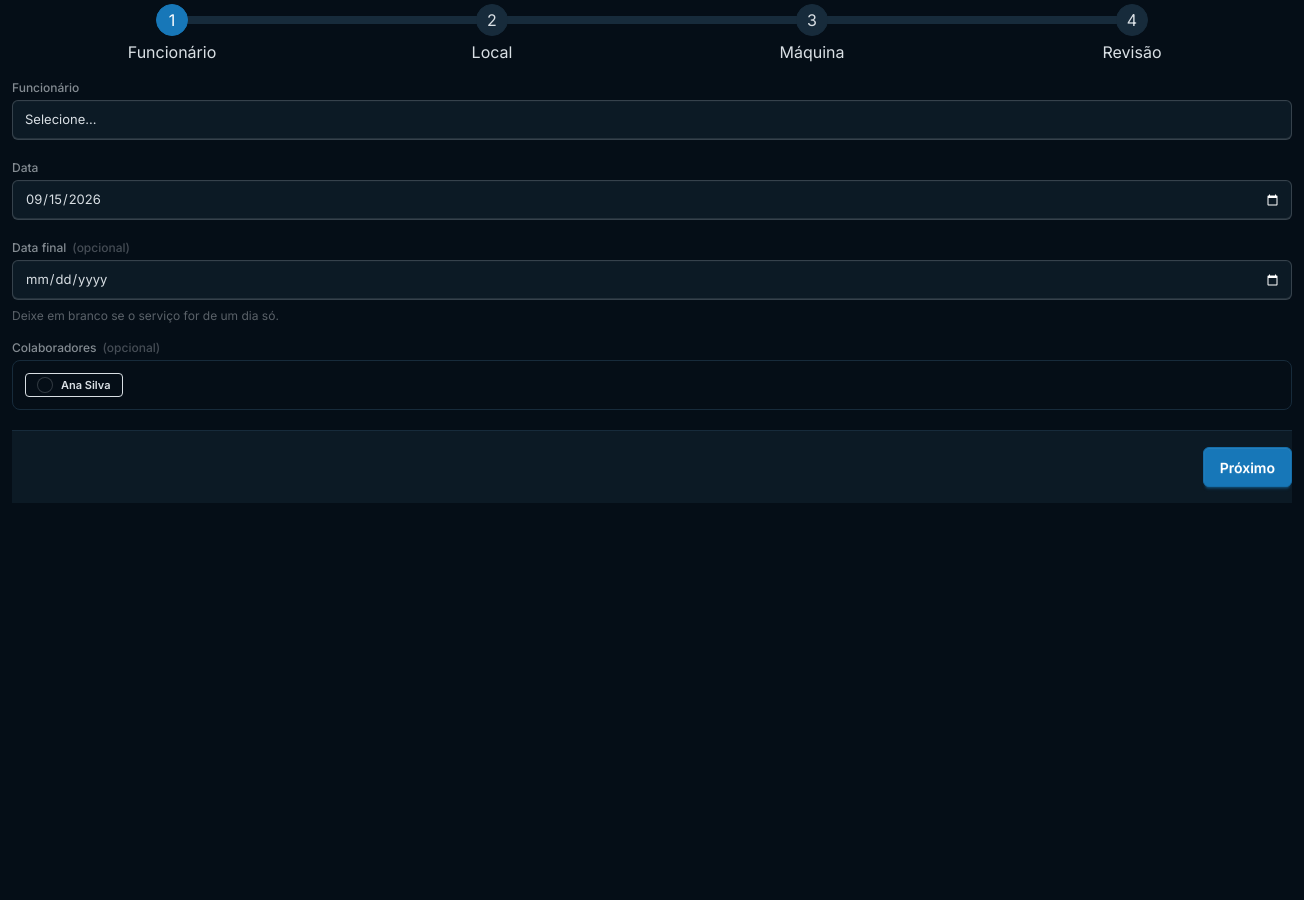
Test: JobStepper › avança para etapa 2 com dados válidos na etapa 1
Select "Ana Silva" in the dropdown labelled "Funcionário" at (652, 120), box [12,100,1292,140]
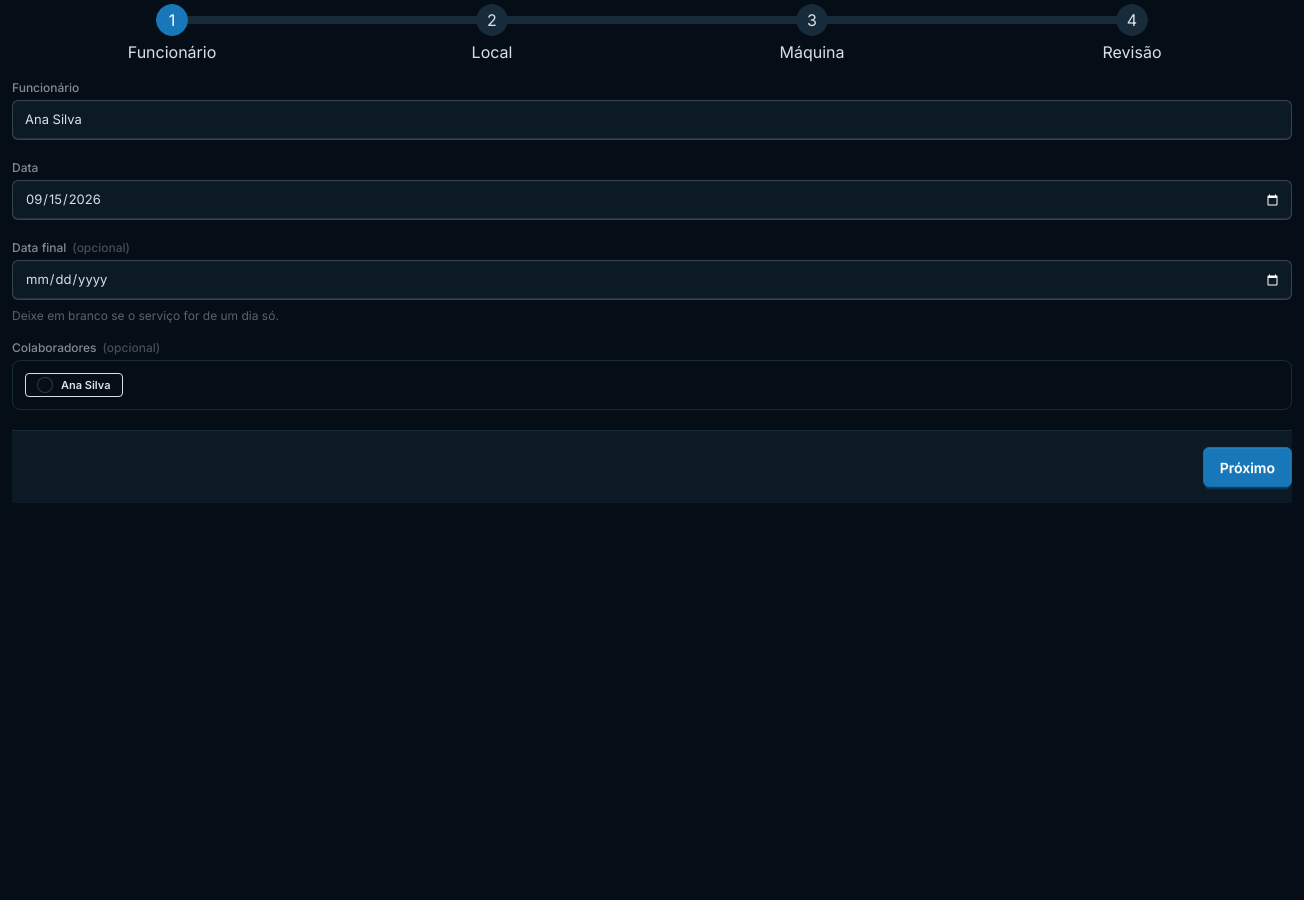
Type "2025-06-01" into the date field labelled "Data".
click(652, 200); type("2025-06-01")  # box [12,180,1292,220]
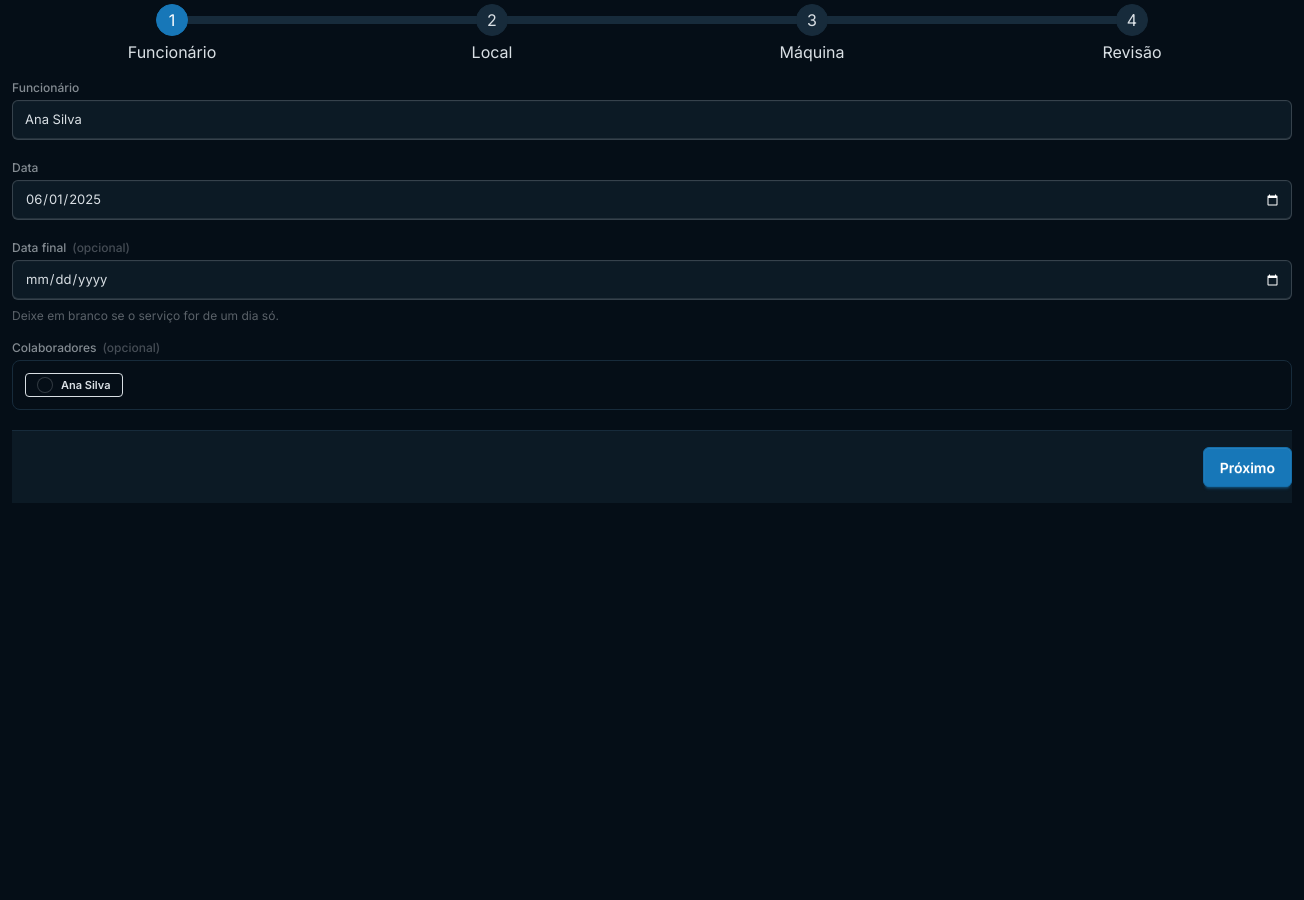
Click the button "Próximo".
click(1247, 467)  # box [1203,447,1292,487]
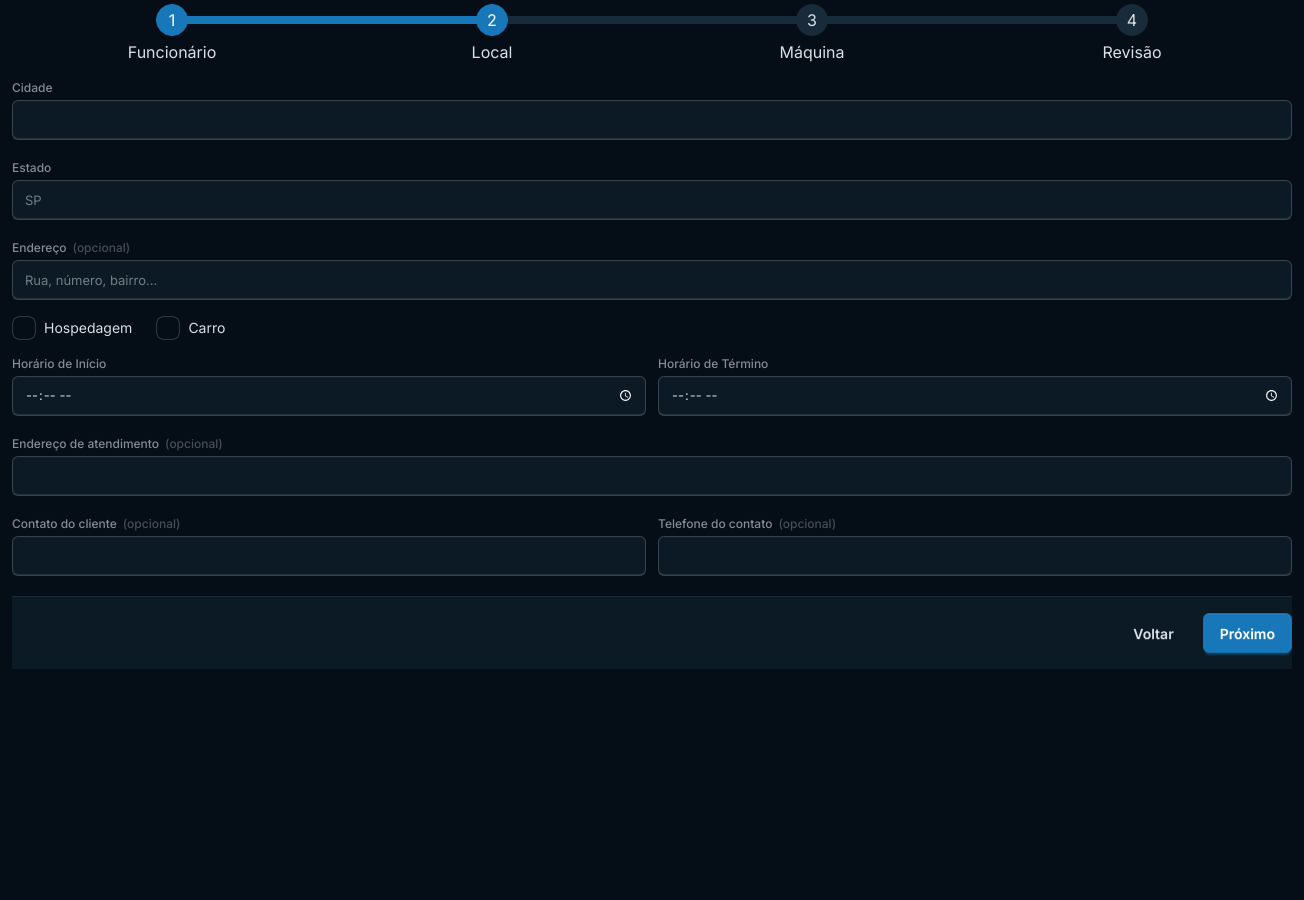
expect the field labelled "Cidade" is shown: met, box [12,100,1292,140]
